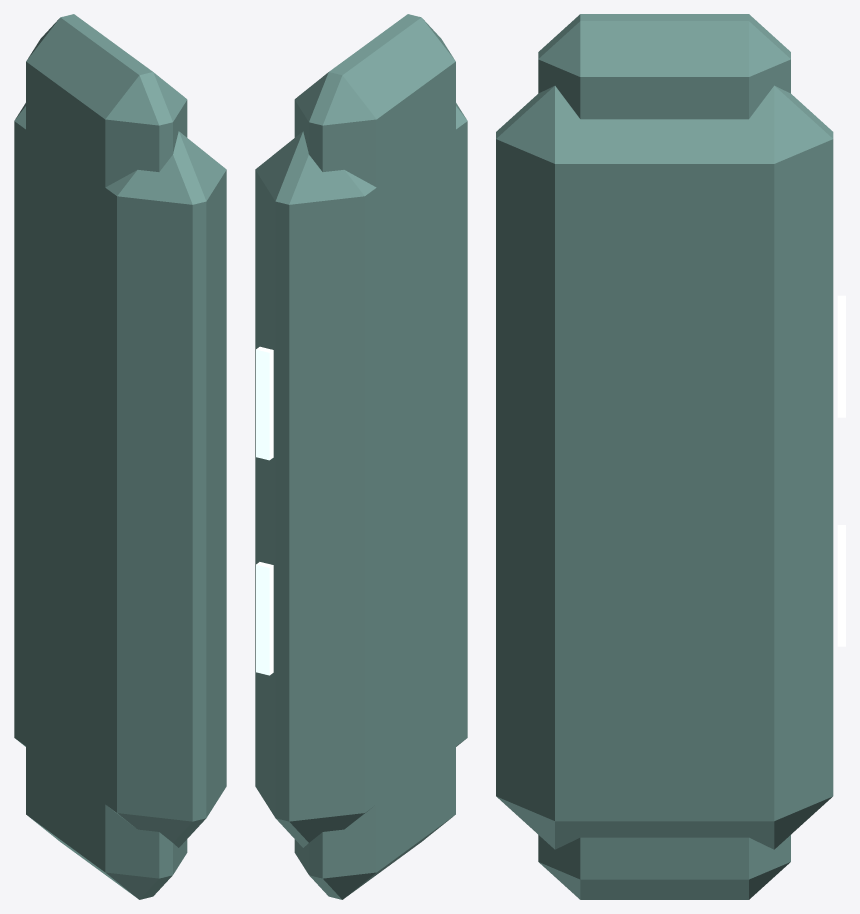
File: TH_EndL.fbx
The picture shows the model from 3 angles, left to right: view 1: azimuth 30°, elevation 25°; view 2: azimuth 150°, elevation 25°; view 3: azimuth 270°, elevation 25°; orthographic projection. The views are drawn at different scales.
Parts seen in each view (by area): view 1: TH_EndL; view 2: TH_EndL; view 3: TH_EndL.
Boxes of the visible parts, x1,y1,x2,y2 form: TH_EndL: (14, 14, 226, 899); TH_EndL: (255, 14, 467, 899); TH_EndL: (496, 14, 845, 899).
Size of the model in its own units: 0.32 by 2.3 by 0.83.
